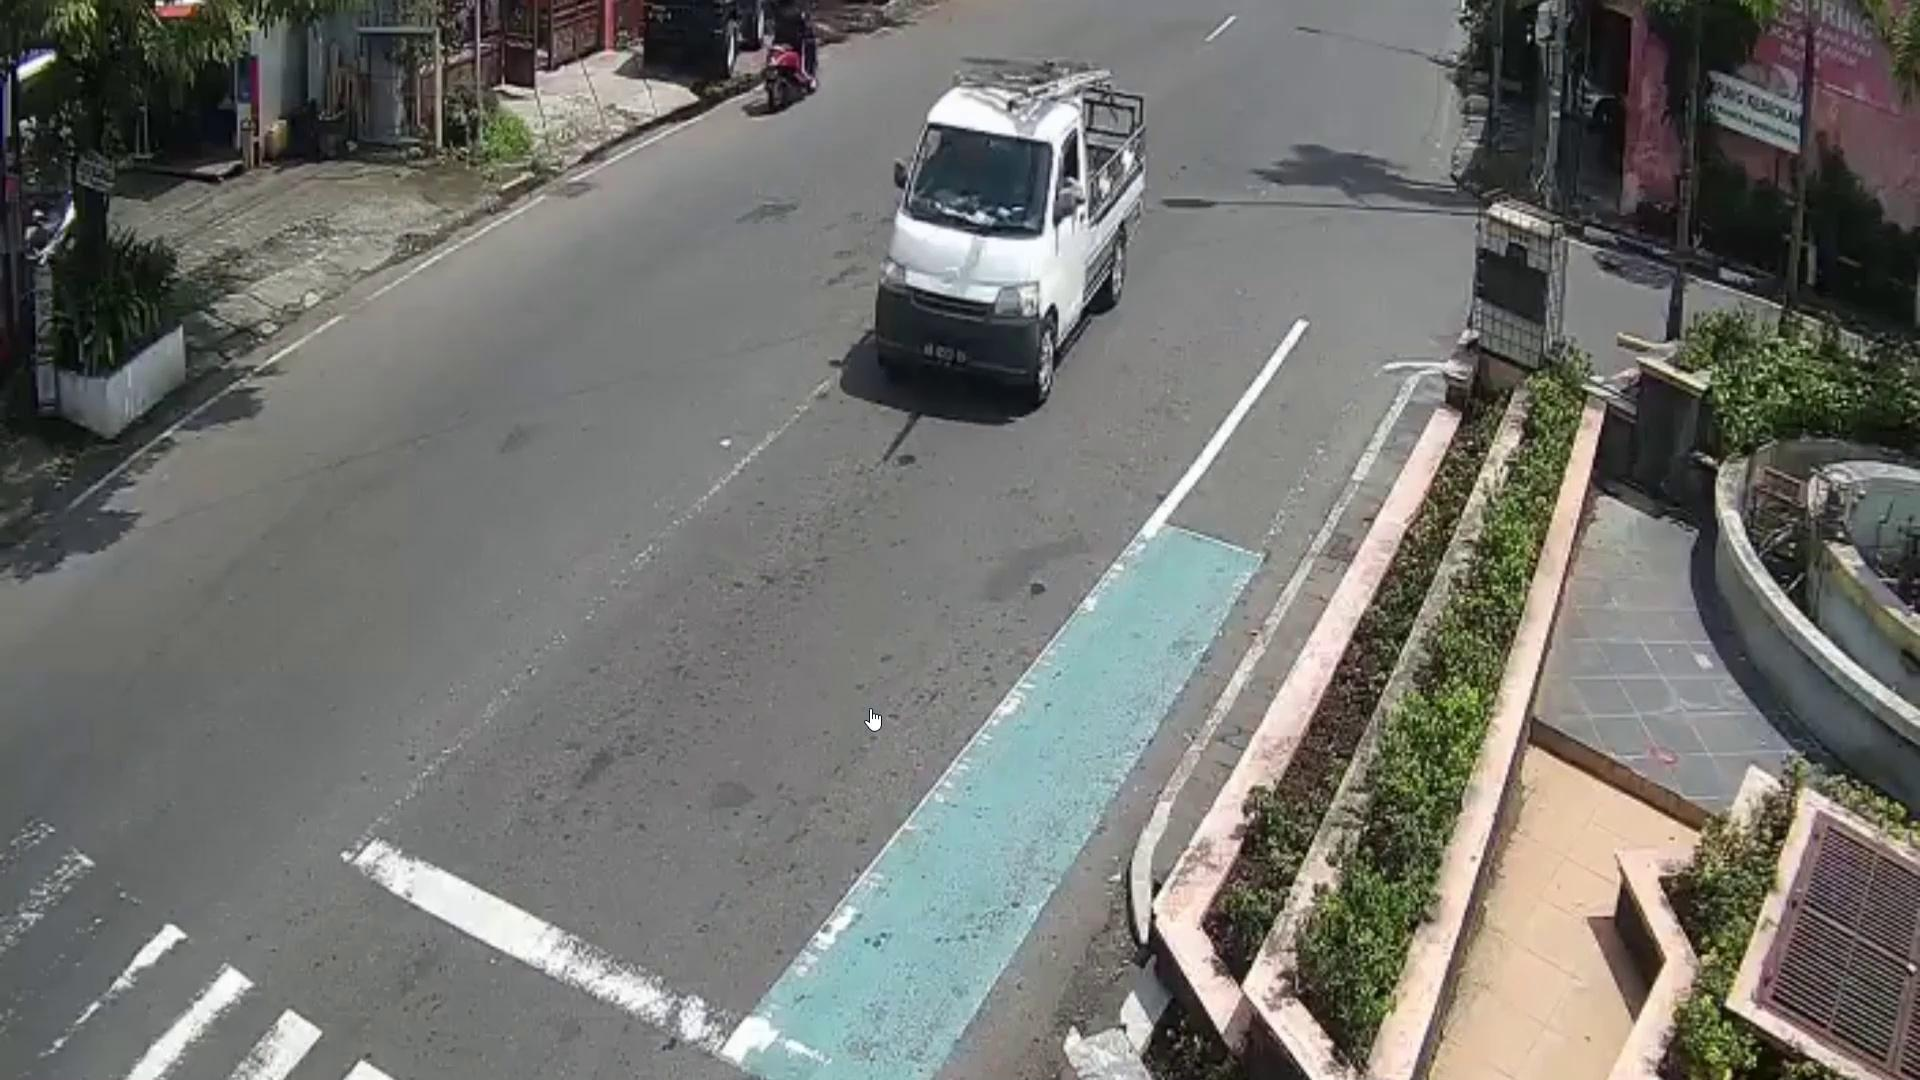car: (876, 83, 1142, 402)
